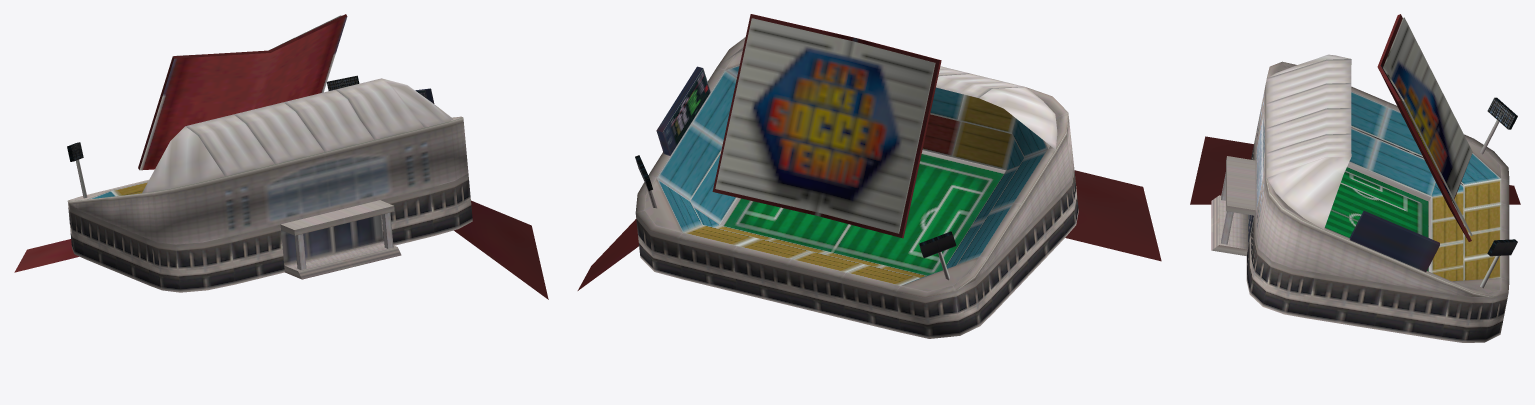
File: static.ico.obj
3 views of the same model, side by side, from view 1: azimuth 30°, elevation 25°; view 2: azimuth 150°, elevation 25°; view 3: azimuth 270°, elevation 25° (orthographic). The views are drawn at different scales.
Size of the model in its own units: 4.92 by 2.96 by 3.69.
Materials: 1 (1 with a texture image).
